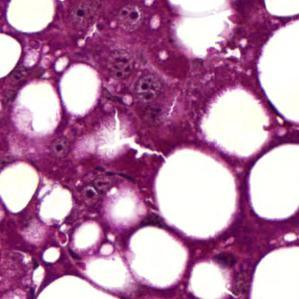steatosis: (154, 149, 241, 235), (0, 162, 41, 211)
